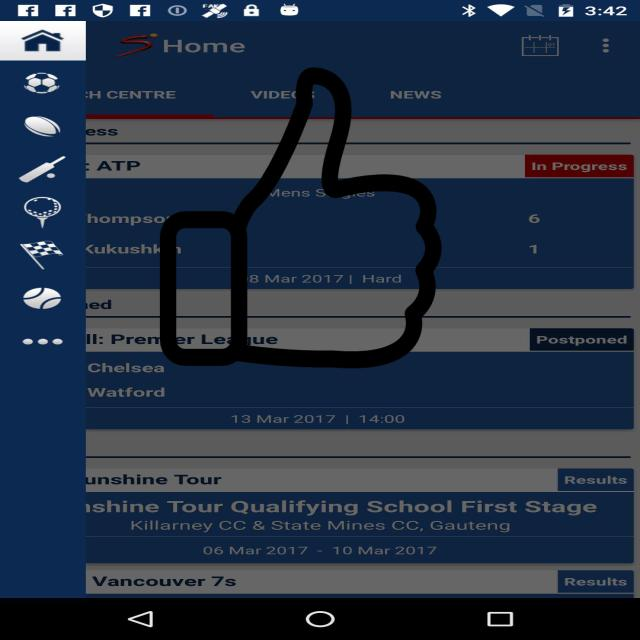privacy zuckering: (156, 68, 446, 368)
